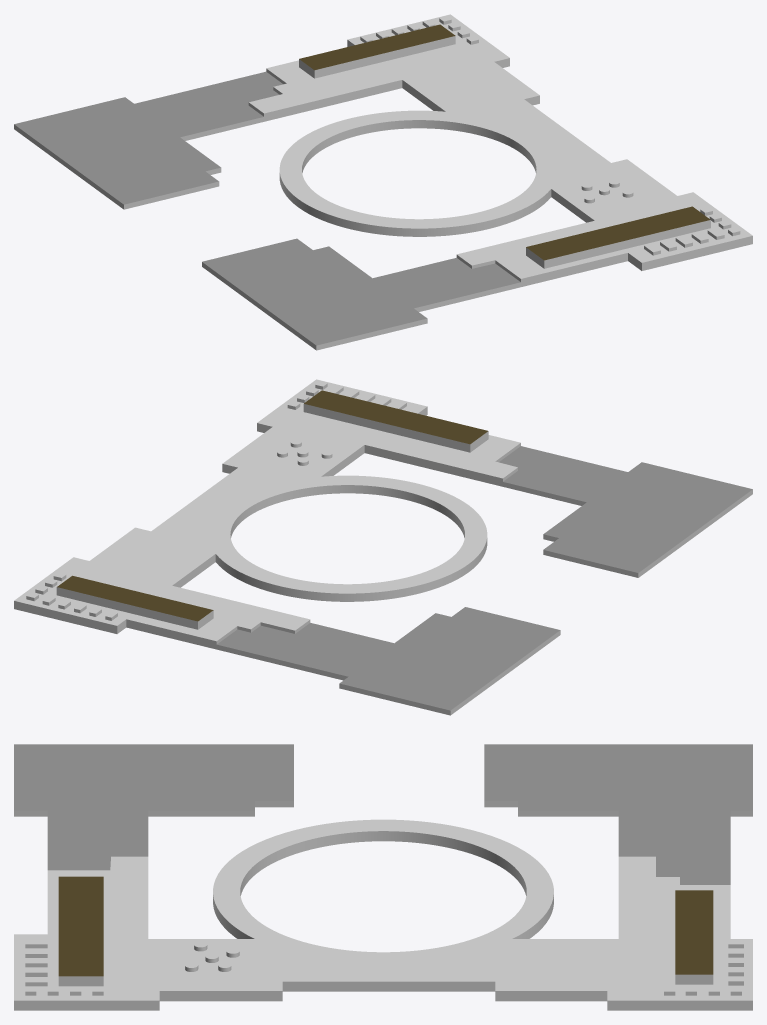
Rendered from mgs_one.obj.
3 renders of one model, top to bottom at view 1: azimuth 30°, elevation 25°; view 2: azimuth 150°, elevation 25°; view 3: azimuth 270°, elevation 25°, orthographic. The views are drawn at different scales.
Parts seen in each view (by area): view 1: ____02; view 2: ____02; view 3: ____02.
Boxes of the visible parts, x1,y1,x2,y2 form: ____02: [14, 14, 752, 350]; ____02: [14, 379, 752, 715]; ____02: [14, 744, 752, 1010].
Bounding box in the file's own units: 5.5 × 0.2 × 6.6.
